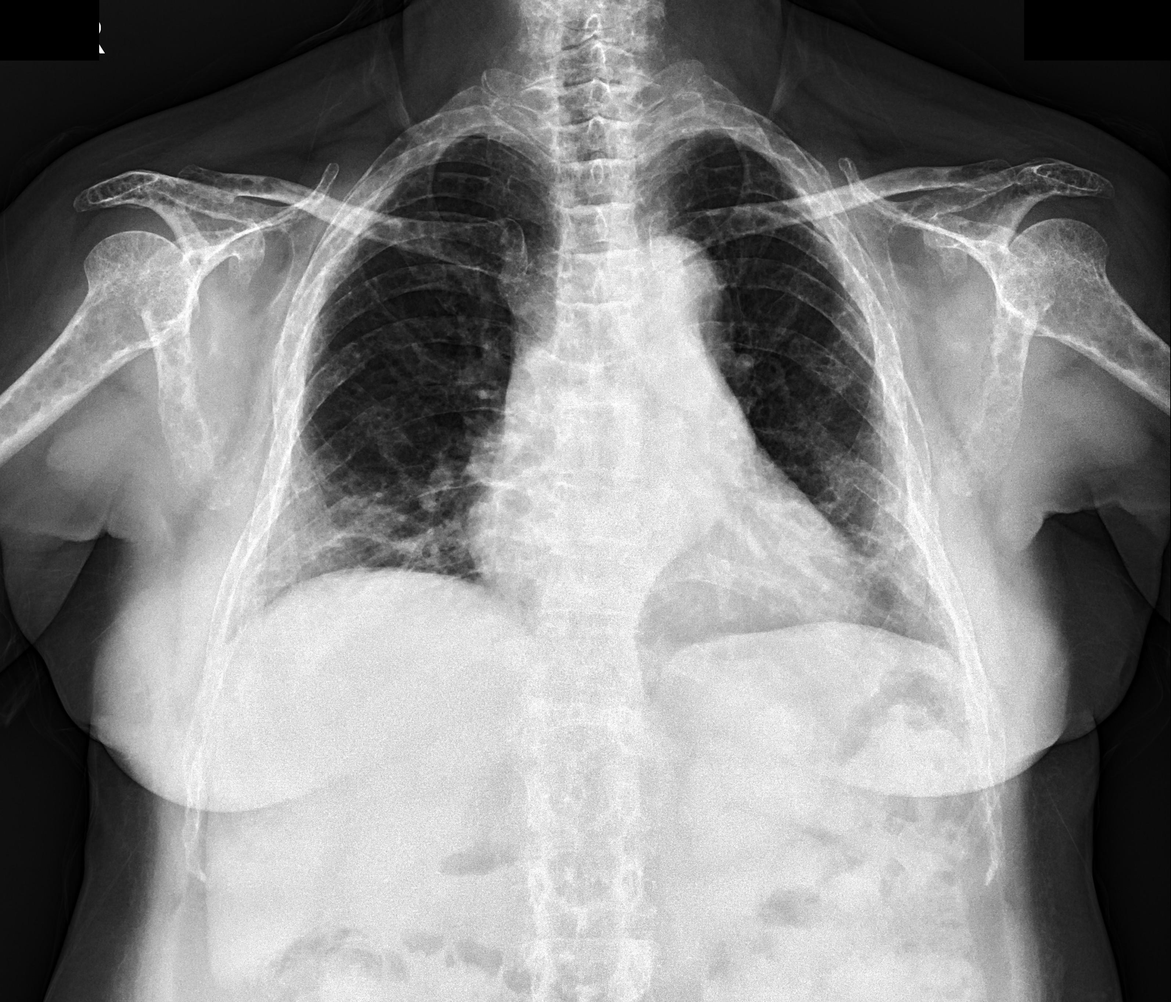Aortic enlargement: (603, 235, 738, 358)
Cardiomegaly: (464, 500, 868, 640)
Pulmonary fibrosis: (319, 526, 436, 573)
